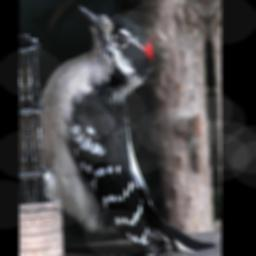Woodpecker: (27, 0, 217, 256)
